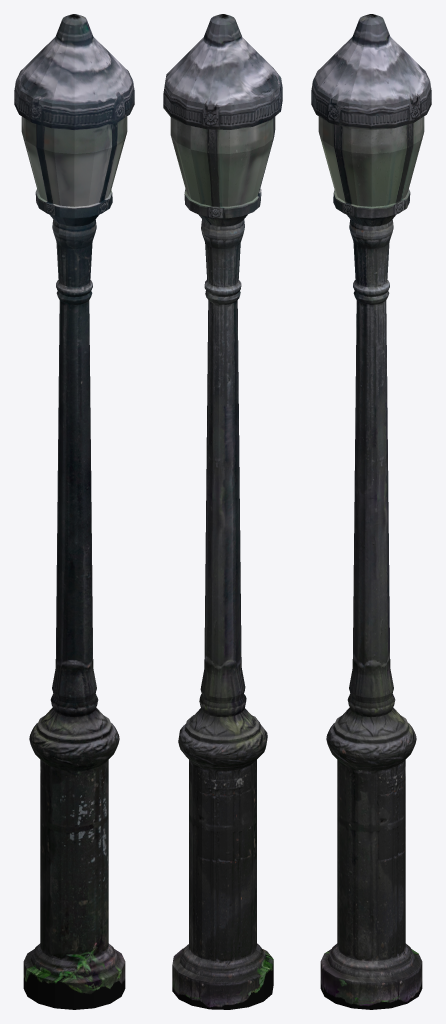
File: nyc_park_streetlight.glb
The picture shows the model from 3 angles, left to right: view 1: azimuth 90°, elevation 25°; view 2: azimuth 210°, elevation 25°; view 3: azimuth 270°, elevation 25°; orthographic projection.
Parts seen in each view (by area): view 1: main_0; view 2: main_0; view 3: main_0.
Part boxes in pixels (x1,y1,x2,y2): main_0: (14, 14, 134, 1009); main_0: (163, 14, 282, 1009); main_0: (311, 14, 431, 1009).
Bounding box in the file's own units: 0.0861 × 0.7708 × 0.0861.
Materials: 1 (1 with a texture image).
